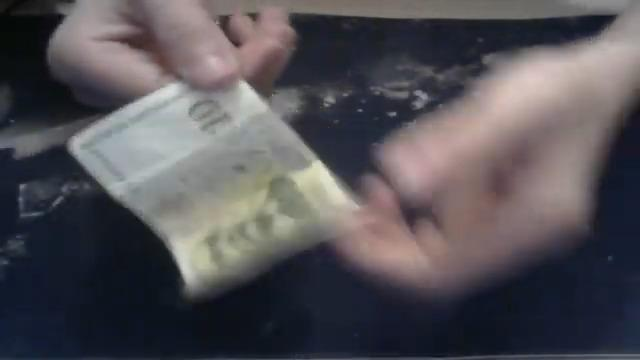10leva: (65, 80, 359, 305)
